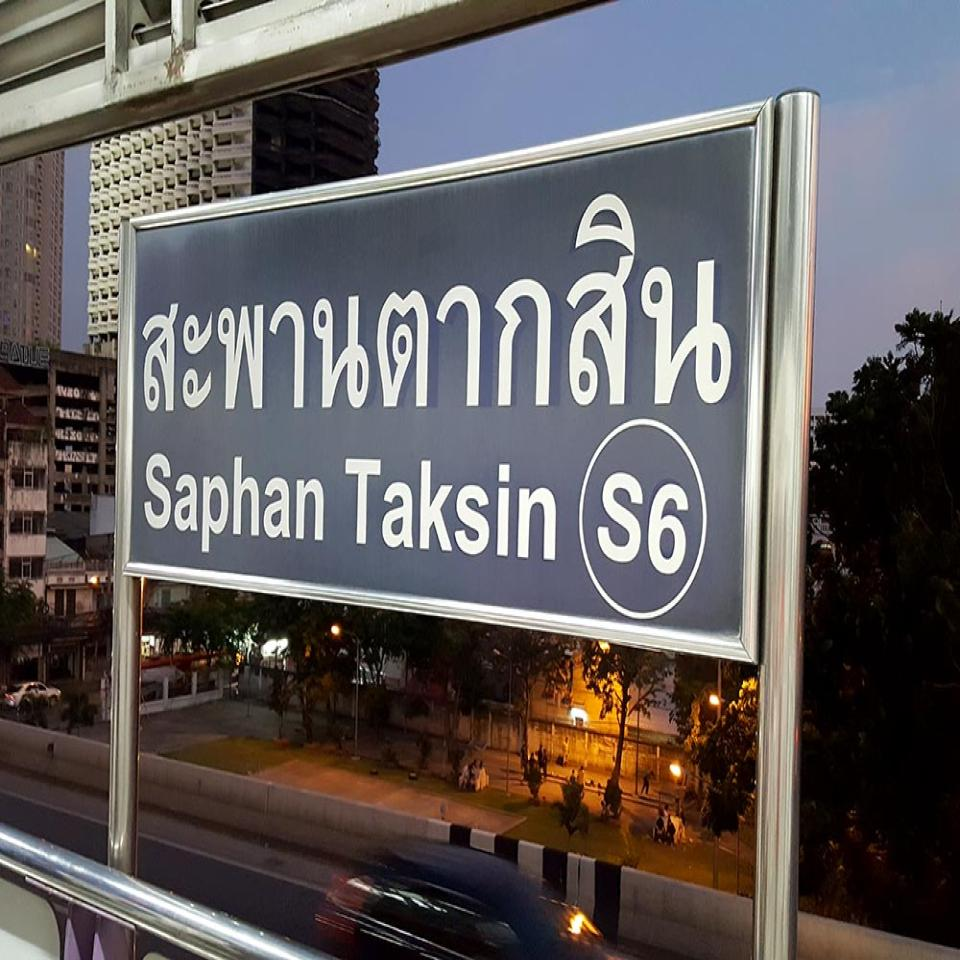signage: (120, 94, 778, 666)
